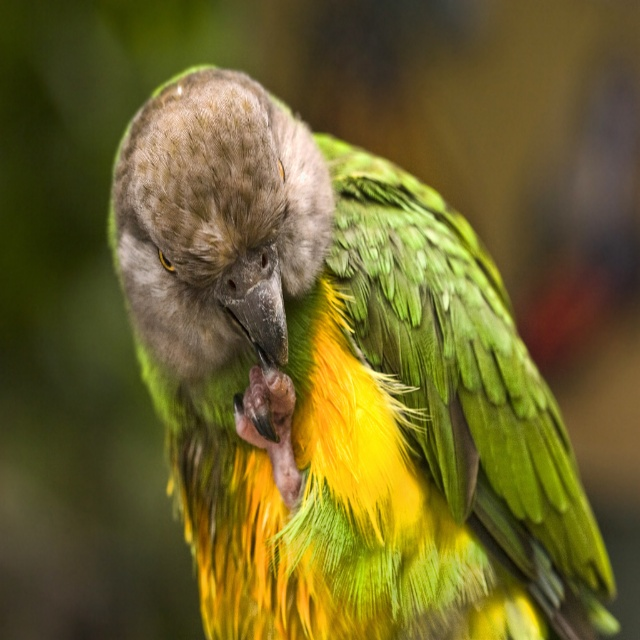Parrot: (106, 66, 622, 639)
